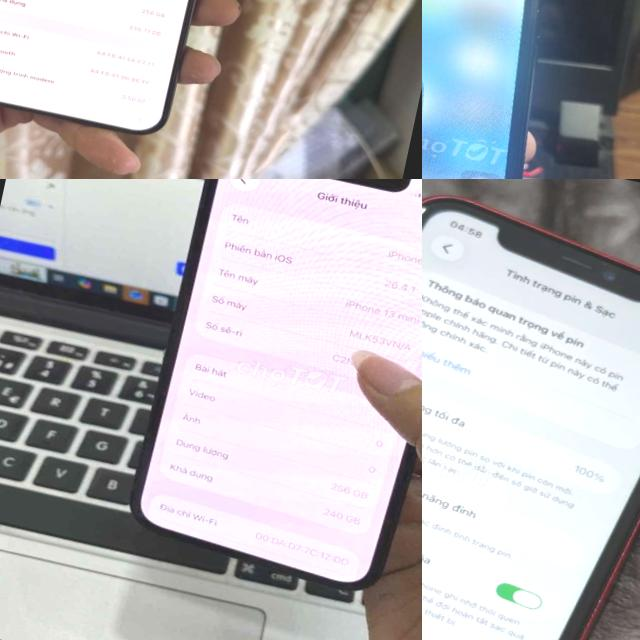scratch: (422, 201, 432, 221)
